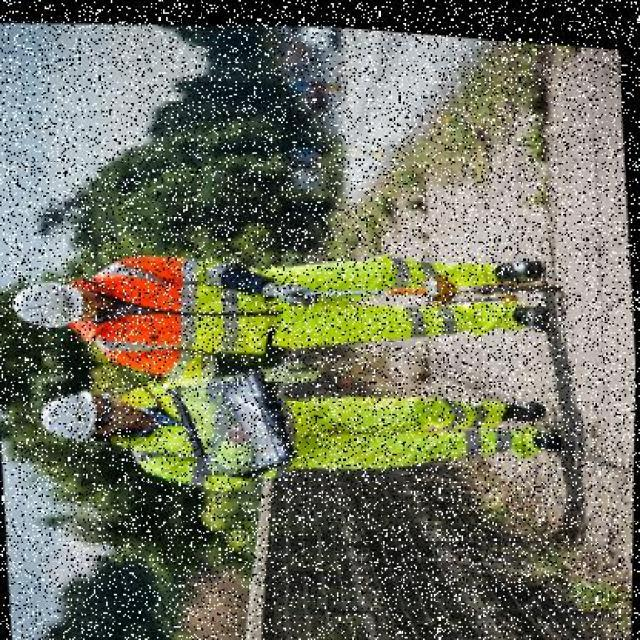helmet: (8, 255, 96, 343), (34, 380, 112, 454)
vest: (74, 235, 304, 375), (105, 357, 314, 497)
